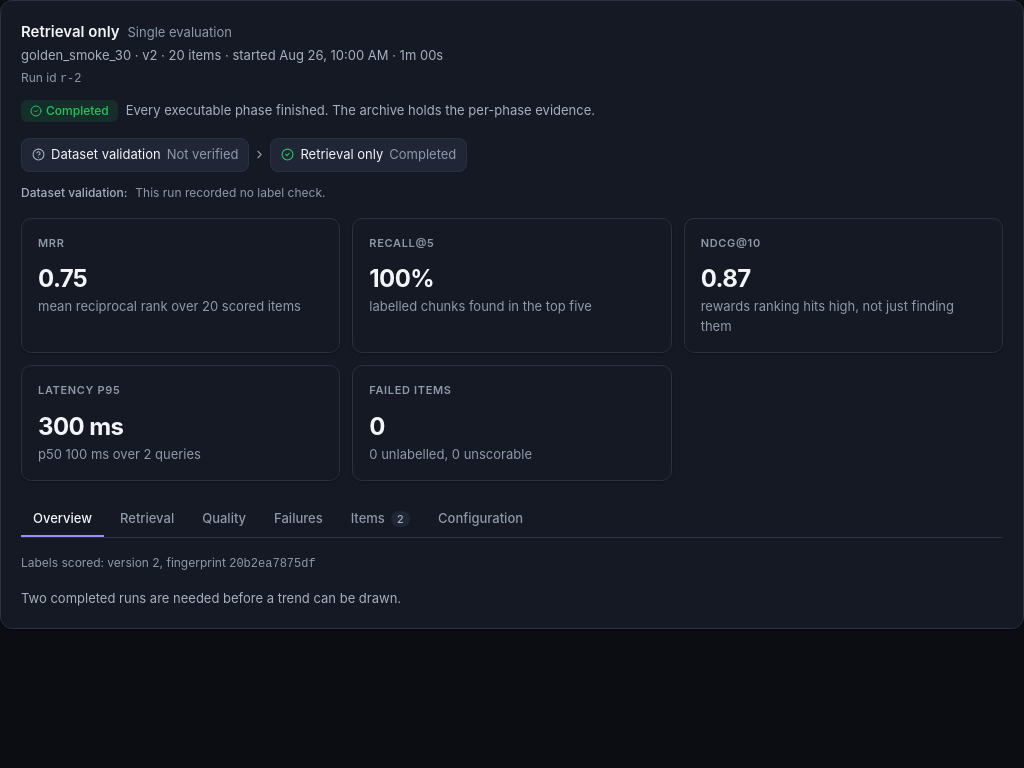
items tab › puts the worst rows first and filters them by band, failure and text
The image size is (1024, 768).
Click the tab "Items 2" at (380, 519), box [339,501,422,536]
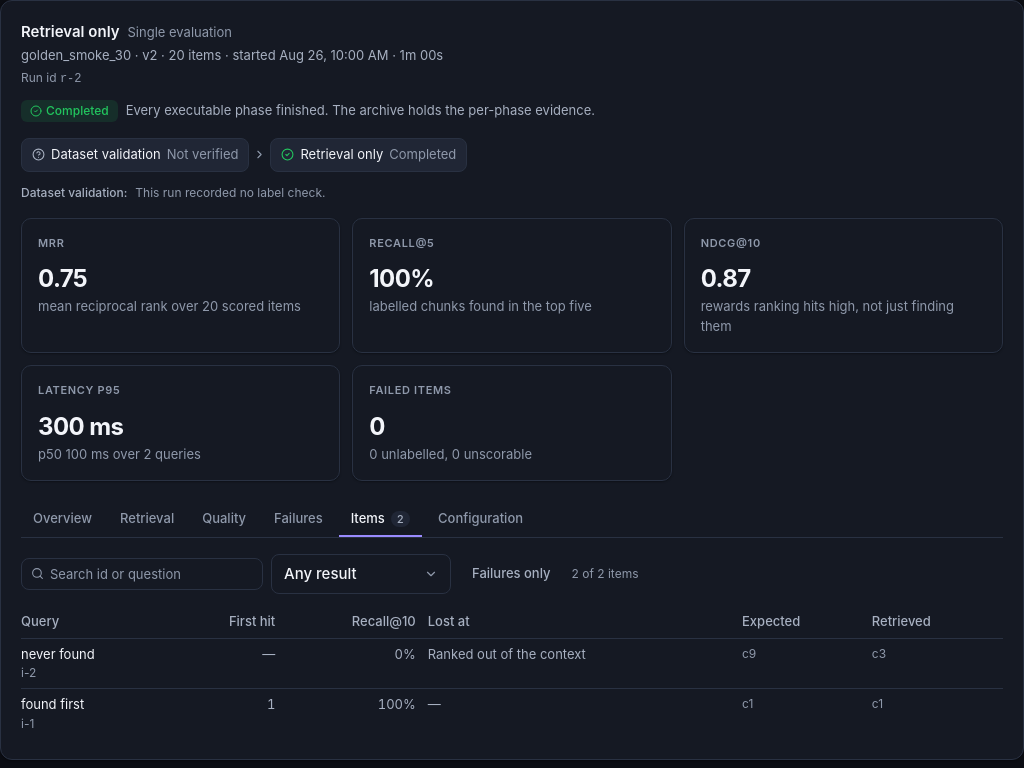
Now the row "never found i-2 — 0% Ranked out of the context c9 c3" is shown, box [21,638,1003,688]
Now the row "found first i-1 1 100% — c1 c1" is shown, box [21,688,1003,738]
Type "found first" into the field named "Search items" at (142, 574), box [21,558,263,590]
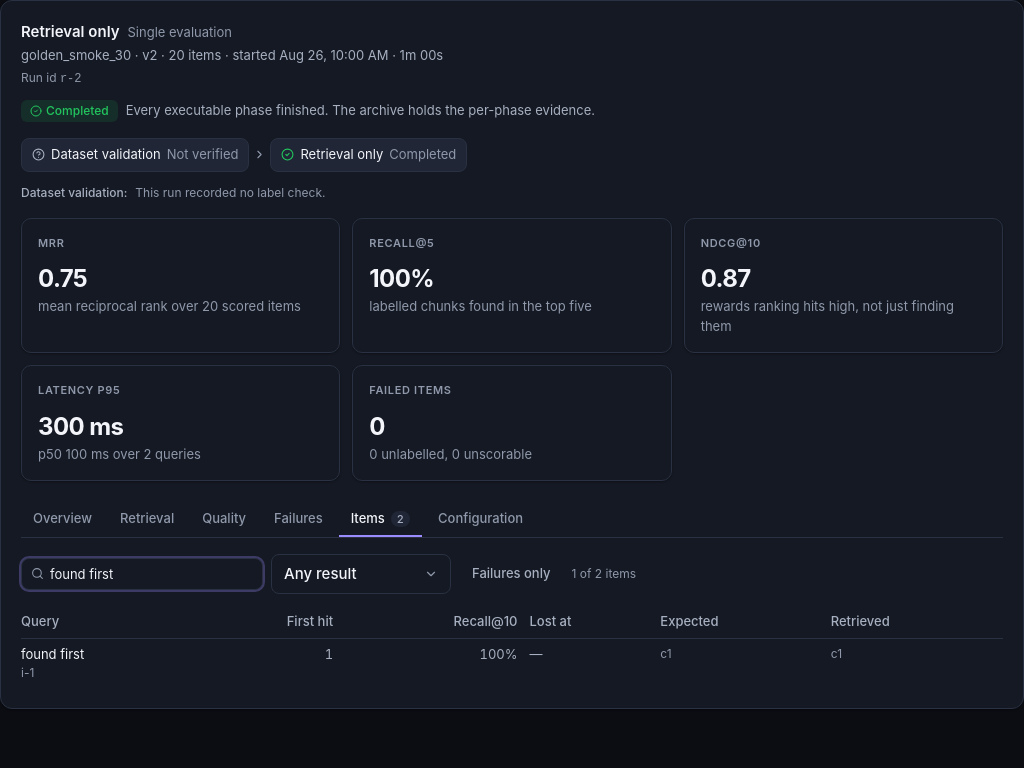
Now the text "1 of 2 items" is shown, box [572,565,636,583]
Now the column heading "never found" is gone
Clear the field named "Search items" at (142, 574), box [21,558,263,590]
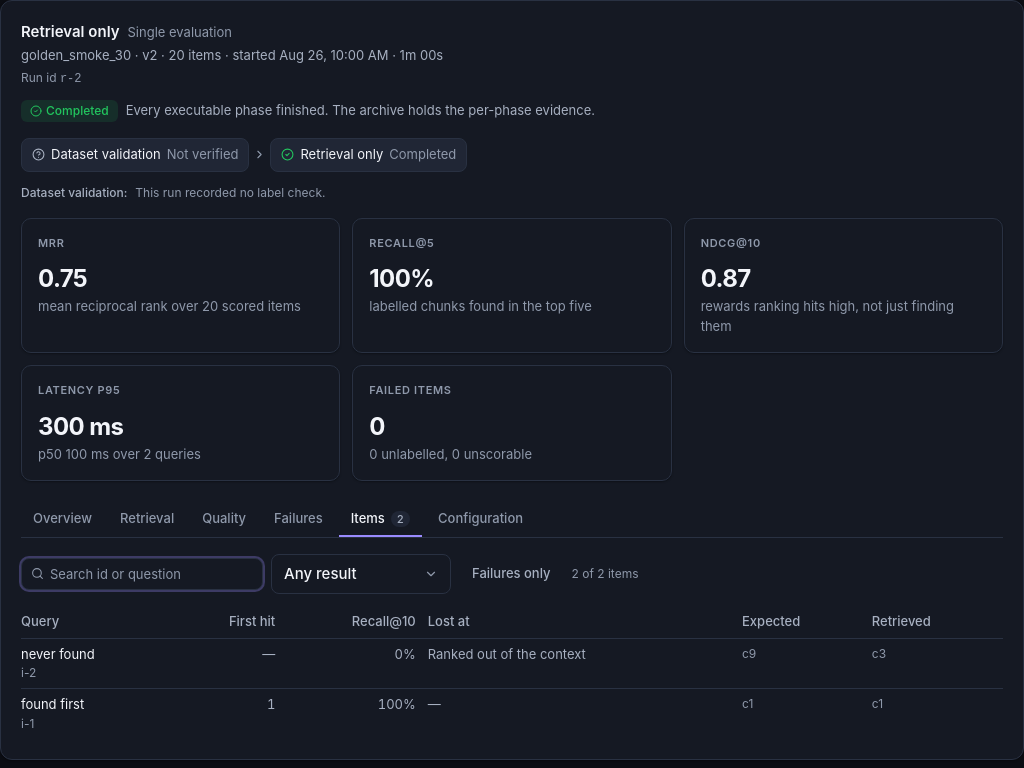
Click the button "Failures only" at (511, 574), box [459,557,564,590]
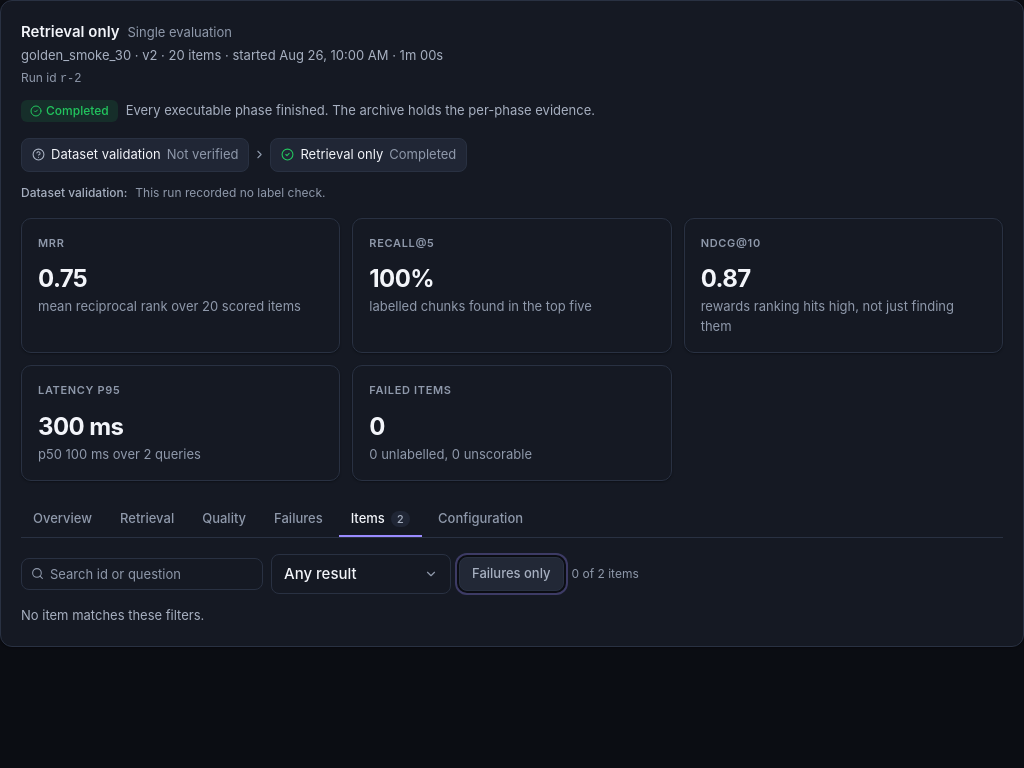
Now the text "No item matches these filters." is shown, box [21,607,204,623]
